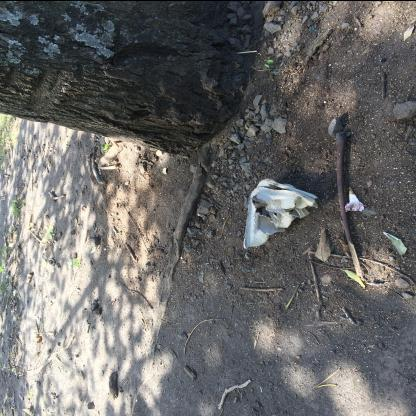karton: (244, 178, 320, 249)
